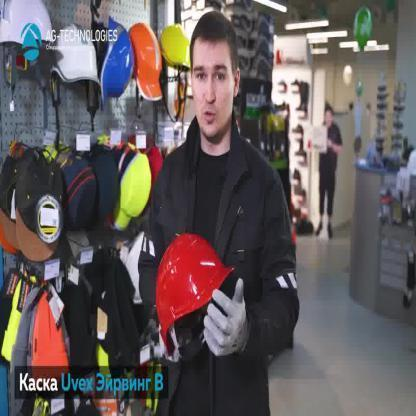gloves: (202, 274, 249, 360)
helmet: (155, 232, 237, 366), (98, 14, 134, 108), (49, 22, 101, 86), (129, 18, 164, 104), (0, 0, 56, 53), (160, 22, 192, 71)
